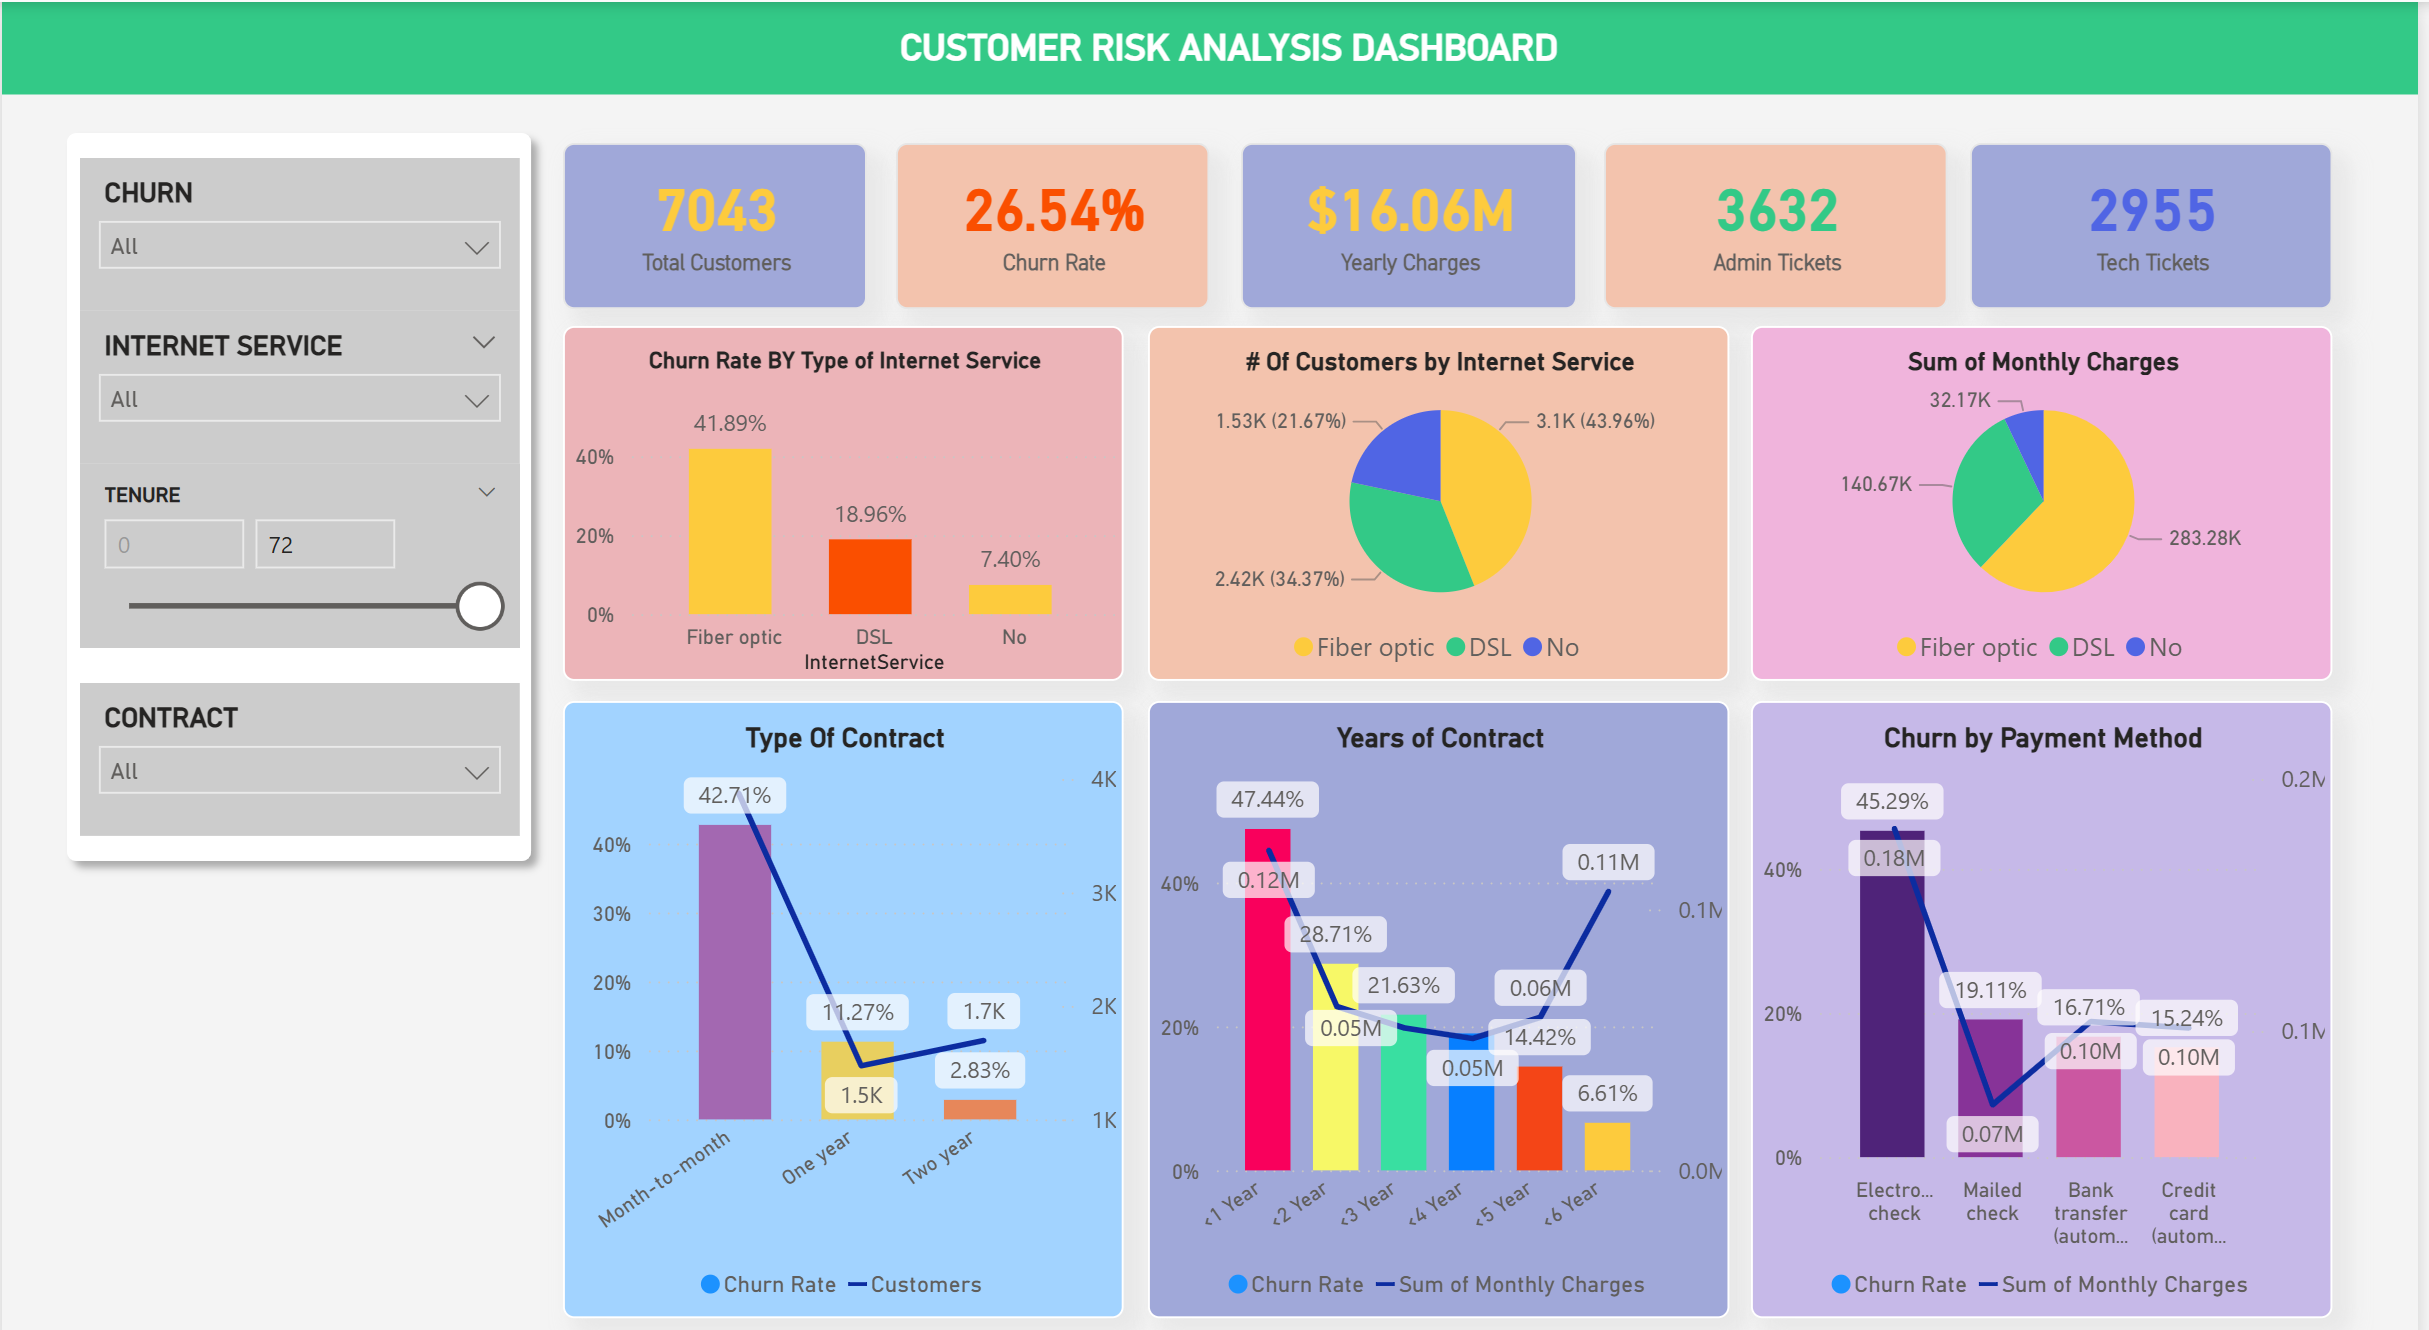

The dashboard page shown, as its layout file describes it:
{"tool":"powerbi","page":{"name":"Customer Risk Analysis","canvas":[1280,720],"ordinal":1},"visuals":[{"type":"shape","box":[0,0,1280,49],"z":0},{"type":"textbox","box":[20.7,7.9,1258.8,41.3],"z":1000},{"type":"shape","box":[25.4,60.4,263.8,403.7],"z":2000},{"type":"slicer","fields":{"Values":["Churn.Churn"]},"box":[42,82,233,81],"z":3000},{"type":"slicer","fields":{"Values":["Churn.InternetService"]},"box":[42,163,233,81],"z":4000},{"type":"slicer","fields":{"Values":["Churn.tenure"]},"box":[41,244,233,97],"z":5000},{"type":"slicer","fields":{"Values":["Churn.Contract"]},"box":[41,360,233,81],"z":6000},{"type":"card","fields":{"Values":["CountNonNull(01 Churn-Dataset.customerID)"]},"box":[298,74,161,88],"z":7000},{"type":"card","fields":{"Values":["Churn.% Churn Rate"]},"box":[474,75,166,88],"z":8000},{"type":"card","fields":{"Values":["Sum(Churn.TotalCharges)"]},"box":[656,75,178,88],"z":9000},{"type":"card","fields":{"Values":["Sum(Churn.numAdminTickets)"]},"box":[848,75,182,88],"z":10000},{"type":"card","fields":{"Values":["Sum(Churn.numTechTickets)"]},"box":[1043,74,192,88],"z":11000},{"type":"columnChart","title":"Churn Rate BY Type of Internet Service","fields":{"Y":["Churn.% Churn Rate"],"Category":["Churn.InternetService"]},"box":[298,172,297,188],"z":12000},{"type":"pieChart","title":"# Of Customers by Internet Service","fields":{"Y":["CountNonNull(Churn.customerID)"],"Category":["Churn.InternetService"]},"box":[607,172,308,188],"z":13000},{"type":"pieChart","title":"Sum of Monthly Charges","fields":{"Category":["Churn.InternetService"],"Y":["Sum(Churn.MonthlyCharges)"]},"box":[927,172,308,188],"z":14000},{"type":"lineStackedColumnComboChart","title":"Type Of Contract","fields":{"Y2":["CountNonNull(Churn.customerID)"],"Y":["Churn.% Churn Rate"],"Category":["Churn.Contract"]},"box":[298,370,297,327],"z":15000},{"type":"lineStackedColumnComboChart","title":"Years of Contract","fields":{"Y":["Churn.% Churn Rate"],"Y2":["Sum(Churn.MonthlyCharges)"],"Category":["Churn.Tenure(in years)"]},"box":[607,370,308,327],"z":16000},{"type":"lineStackedColumnComboChart","title":"Churn by Payment Method","fields":{"Y":["Churn.% Churn Rate"],"Y2":["Sum(Churn.MonthlyCharges)"],"Category":["Churn.PaymentMethod"]},"box":[927,370,308,327],"z":17000}]}

Visuals, with their boxes in screenshot pixels (x1, y1, x2, y2), scaled from the page's 1280x720 canvas onto the 2429x1330 screenshot:
shape: rect(0, 0, 2428, 91)
textbox: rect(39, 15, 2428, 91)
shape: rect(48, 112, 549, 857)
slicer - Churn.Churn: rect(80, 151, 522, 301)
slicer - Churn.InternetService: rect(80, 301, 522, 451)
slicer - Churn.tenure: rect(78, 451, 520, 630)
slicer - Churn.Contract: rect(78, 665, 520, 815)
card - CountNonNull(01 Churn-Dataset.customerID): rect(566, 137, 871, 299)
card - Churn.% Churn Rate: rect(899, 139, 1214, 301)
card - Sum(Churn.TotalCharges): rect(1245, 139, 1583, 301)
card - Sum(Churn.numAdminTickets): rect(1609, 139, 1955, 301)
card - Sum(Churn.numTechTickets): rect(1979, 137, 2344, 299)
"Churn Rate BY Type of Internet Service" columnChart: rect(566, 318, 1129, 665)
"# Of Customers by Internet Service" pieChart: rect(1152, 318, 1736, 665)
"Sum of Monthly Charges" pieChart: rect(1759, 318, 2344, 665)
"Type Of Contract" lineStackedColumnComboChart: rect(566, 683, 1129, 1288)
"Years of Contract" lineStackedColumnComboChart: rect(1152, 683, 1736, 1288)
"Churn by Payment Method" lineStackedColumnComboChart: rect(1759, 683, 2344, 1288)
